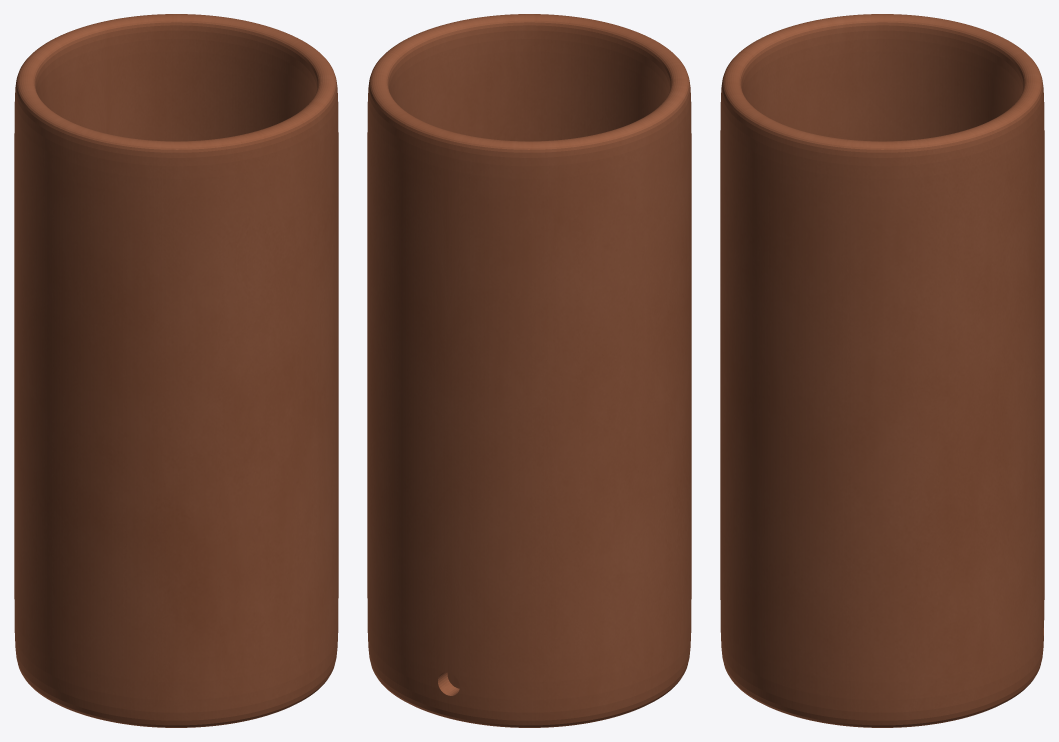
The model's file is edf1aea8-193c-47e7-9ecc-4e4d711897ea.glb.
3 views of the same model, side by side, from view 1: azimuth 30°, elevation 25°; view 2: azimuth 150°, elevation 25°; view 3: azimuth 270°, elevation 25° (orthographic).
Parts seen in each view (by area): view 1: Cylinder.001; view 2: Cylinder.001; view 3: Cylinder.001.
Boxes of the visible parts, x1=… form: Cylinder.001: x1=14, y1=14, x2=338, y2=727; Cylinder.001: x1=367, y1=14, x2=691, y2=727; Cylinder.001: x1=720, y1=14, x2=1044, y2=727.
Bounding box in the file's own units: 1.46 × 2.92 × 1.46.
1 material, 1 textured.
